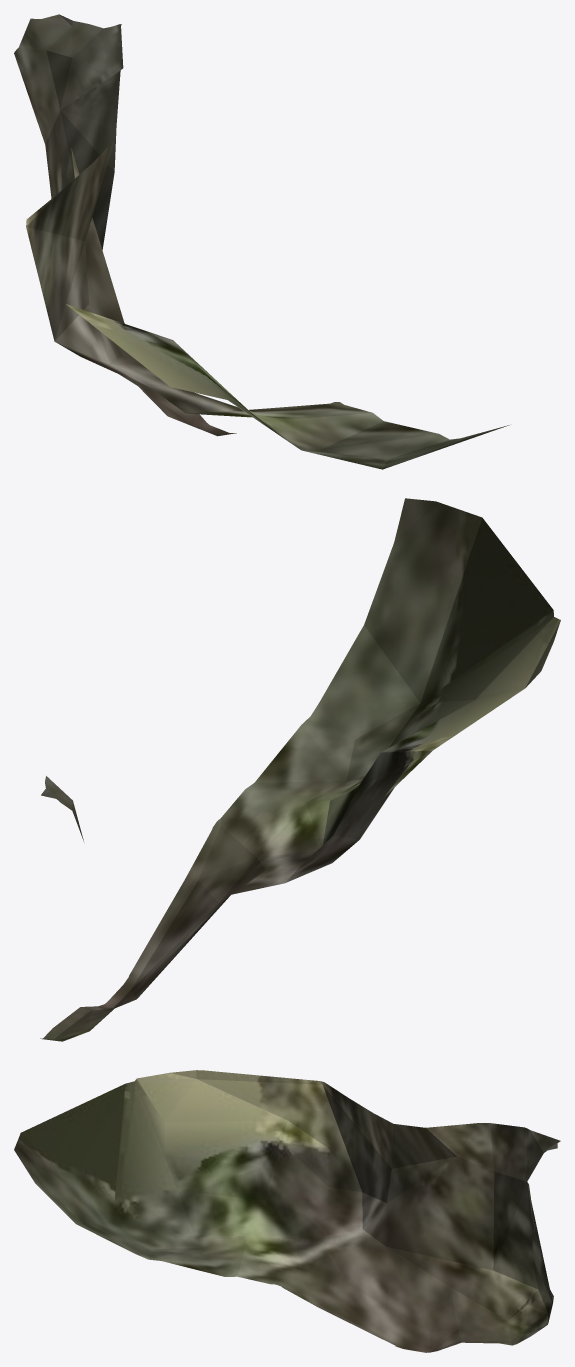
3 renders of one model, top to bottom at view 1: azimuth 30°, elevation 25°; view 2: azimuth 150°, elevation 25°; view 3: azimuth 270°, elevation 25°, orthographic. The views are drawn at different scales.
Size of the model in its own units: 0.9707 by 1 by 2.54.
Materials: 1 (1 with a texture image).
